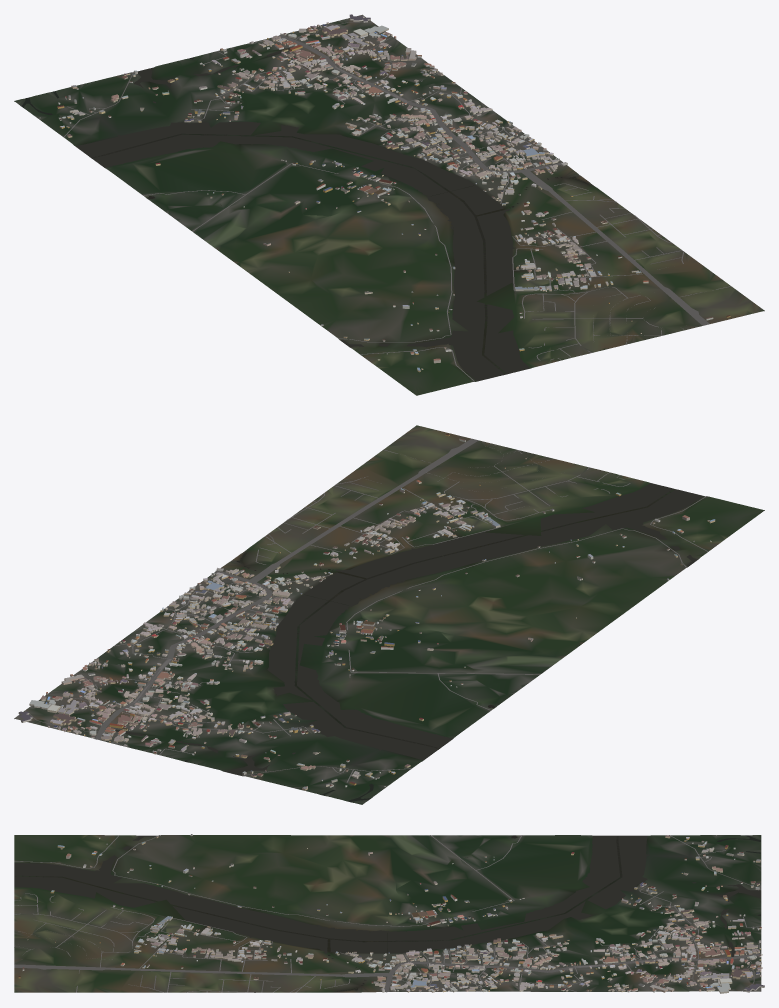
3 views of the same model, one above another, from view 1: azimuth 30°, elevation 25°; view 2: azimuth 150°, elevation 25°; view 3: azimuth 270°, elevation 25° (orthographic). The views are drawn at different scales.
Parts seen in each view (by area): view 1: ground, water, buildings, roads; view 2: ground, water, buildings, roads; view 3: ground, water, buildings, roads.
Part boxes in pixels (box(x1,y1,x2,y2)): ground: box(14, 14, 764, 395); water: box(21, 48, 588, 381); buildings: box(39, 14, 730, 372); roads: box(63, 22, 731, 381); ground: box(14, 425, 764, 804); water: box(106, 483, 703, 801); buildings: box(18, 434, 715, 790); roads: box(24, 438, 708, 782); ground: box(14, 835, 761, 992); water: box(14, 835, 760, 991); buildings: box(18, 834, 764, 993); roads: box(14, 835, 761, 992).
Bounding box in the file's own units: 1419 × 21.66 × 2816.
